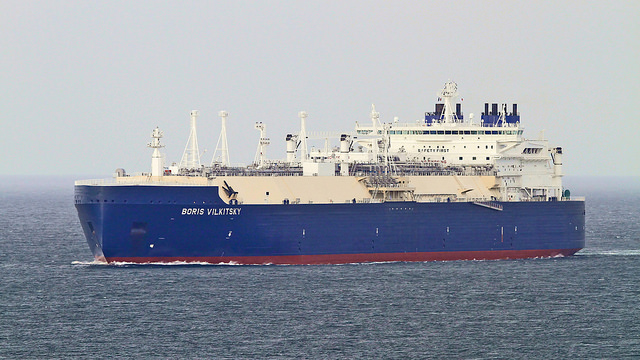LNG_ship: (71, 83, 592, 270)
